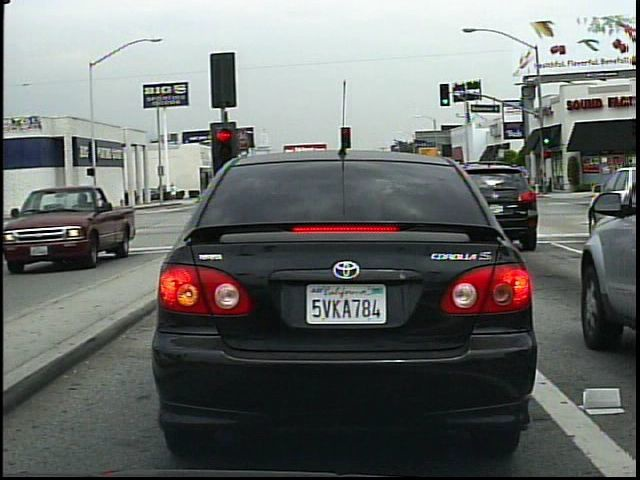person: (168, 181, 180, 205)
